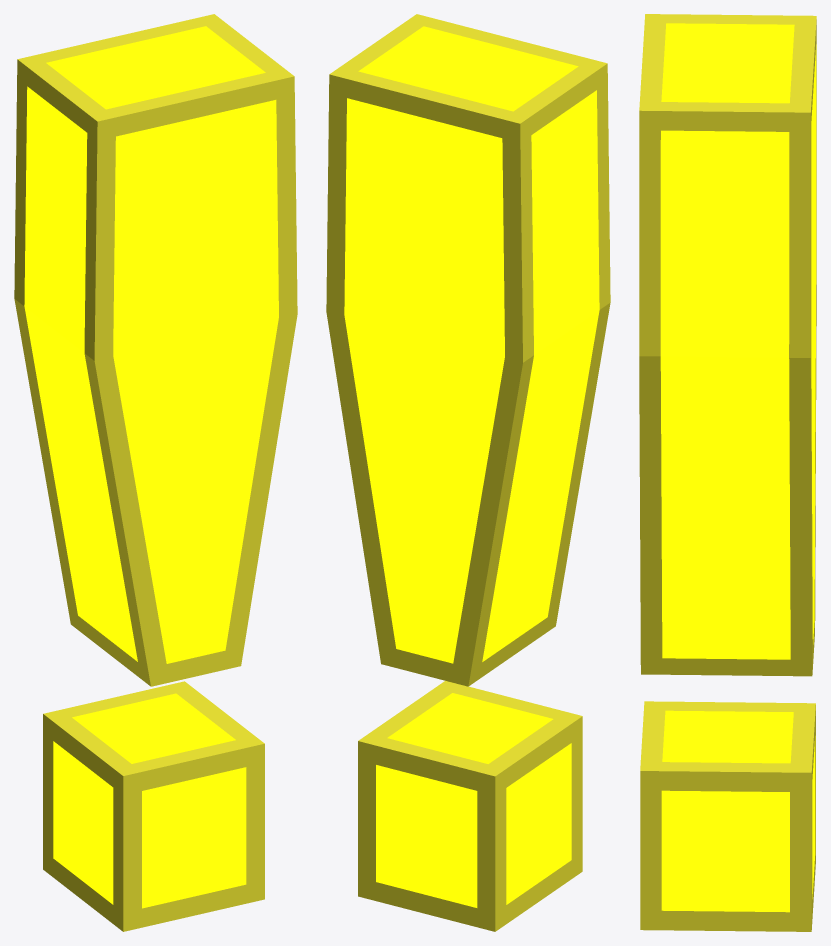
Rendered from Exclamation.fbx.
The picture shows the model from 3 angles, left to right: view 1: azimuth 30°, elevation 25°; view 2: azimuth 150°, elevation 25°; view 3: azimuth 270°, elevation 25°; orthographic projection. The views are drawn at different scales.
Visible parts, largest first — view 1: Text.006; view 2: Text.006; view 3: Text.006.
Boxes of the visible parts, bbox=[...] form: Text.006: bbox=[14, 14, 297, 931]; Text.006: bbox=[326, 14, 610, 931]; Text.006: bbox=[639, 14, 816, 931].
Bounding box in the file's own units: 2.09 × 7.99 × 1.54.
